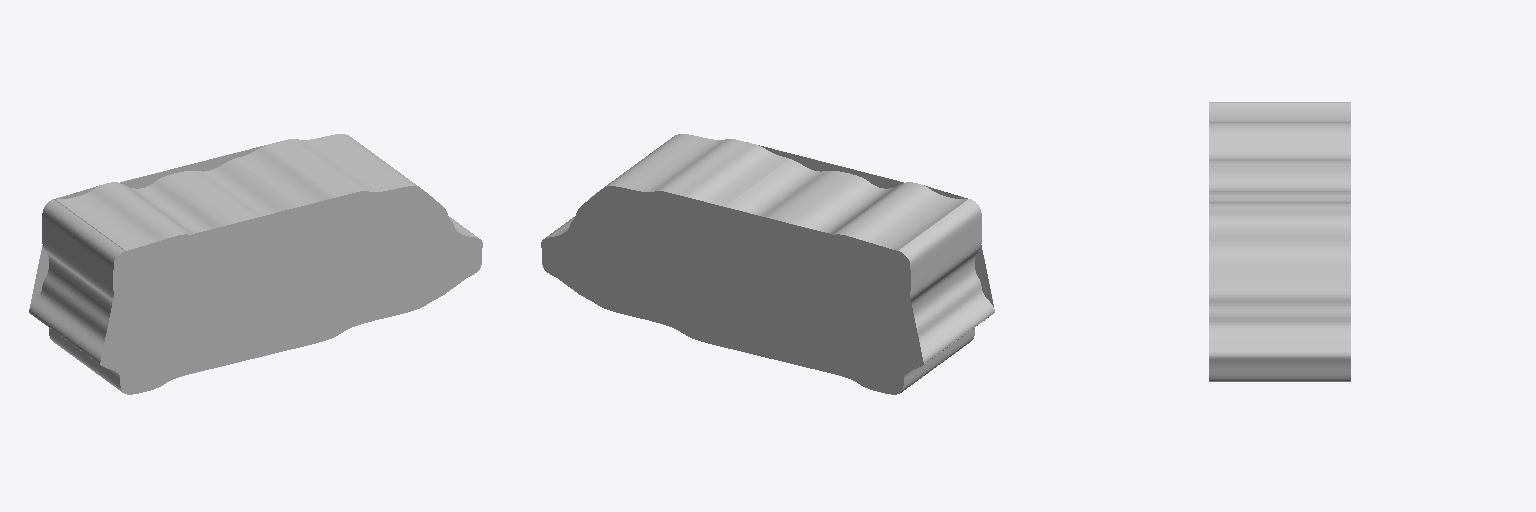
3 renders of one model, left to right at view 1: azimuth 30°, elevation 25°; view 2: azimuth 150°, elevation 25°; view 3: azimuth 270°, elevation 25°, orthographic.
Parts seen in each view (by area): view 1: 平面; view 2: 平面; view 3: 平面.
Boxes of the visible parts, x1=… form: 平面: x1=29, y1=134, x2=482, y2=394; 平面: x1=541, y1=134, x2=994, y2=394; 平面: x1=1209, y1=102, x2=1350, y2=381.
Bounding box in the file's own units: 0.62 × 0.23 × 0.2.